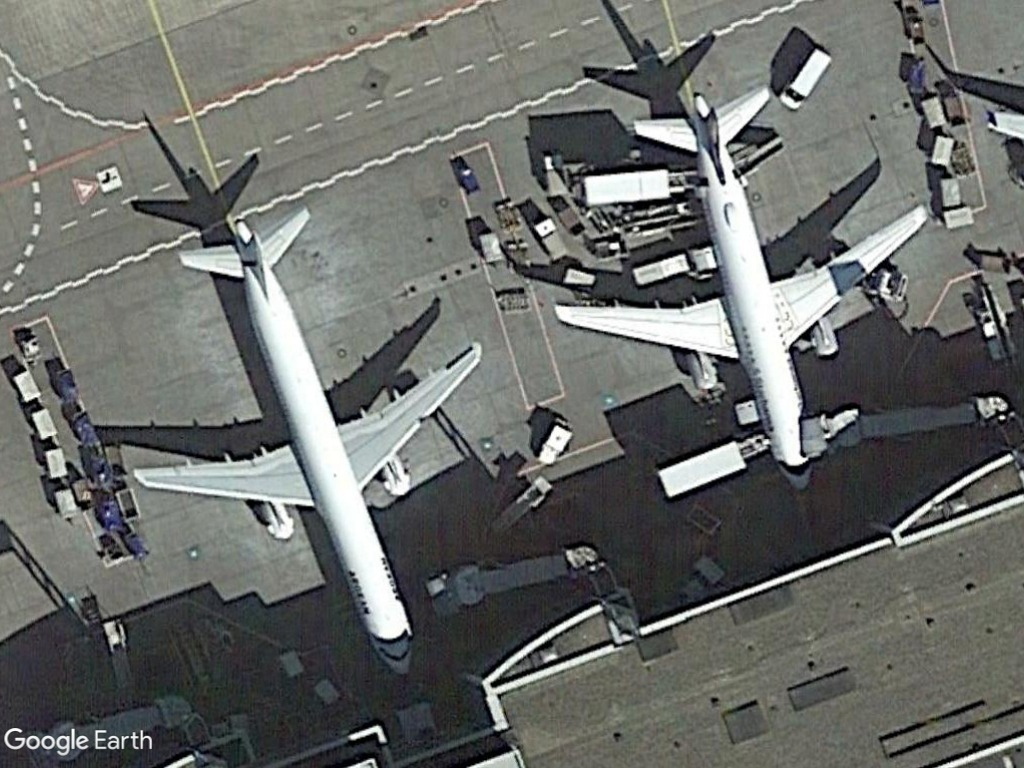airliner: (126, 200, 487, 676), (545, 80, 936, 500)
van: (775, 42, 832, 115)
